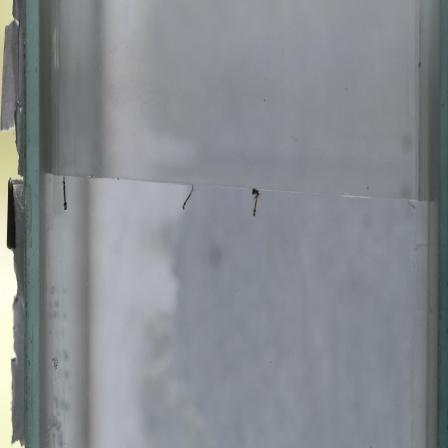Jentik-Nyamuk: (247, 186, 262, 220)
